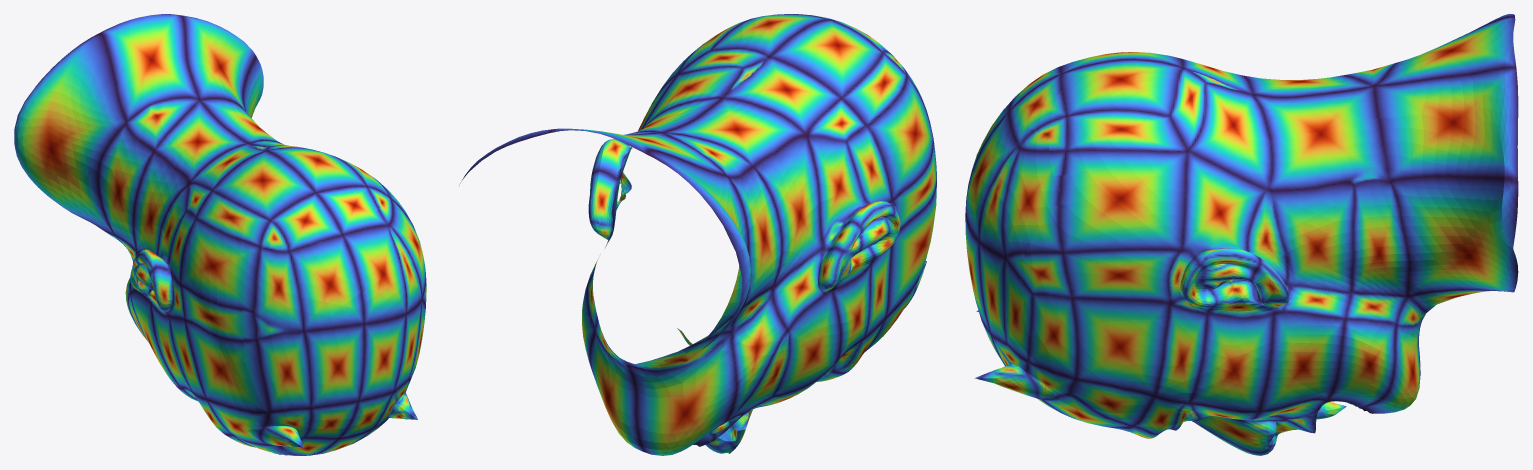
The model's file is gen3.glb.
3 views of the same model, side by side, from view 1: azimuth 30°, elevation 25°; view 2: azimuth 150°, elevation 25°; view 3: azimuth 270°, elevation 25° (orthographic). The views are drawn at different scales.
Visible parts, largest first — view 1: Node; view 2: Node; view 3: Node.
Boxes of the visible parts, left/top/right/bottom form: Node: left=14, top=14, right=426, bottom=455; Node: left=459, top=14, right=936, bottom=455; Node: left=965, top=14, right=1518, bottom=455.
Size of the model in its own units: 25.03 by 33.47 by 40.
1 material, 1 textured.
